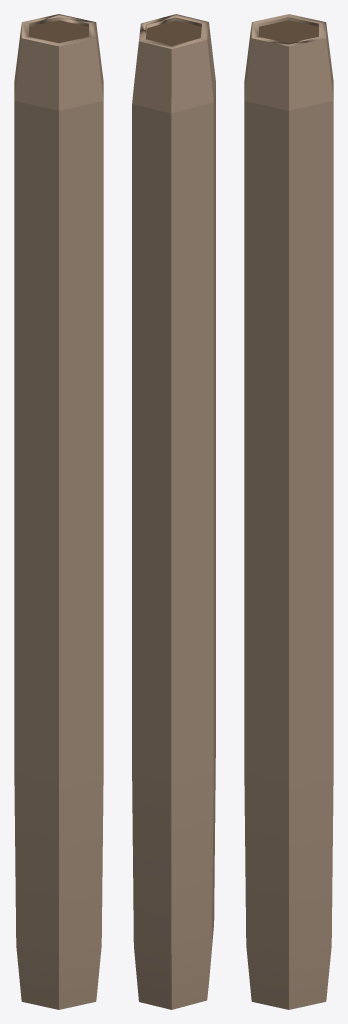
The model's file is Log.fbx.
3 views of the same model, side by side, from view 1: azimuth 90°, elevation 25°; view 2: azimuth 150°, elevation 25°; view 3: azimuth 270°, elevation 25° (orthographic).
Visible parts, largest first — view 1: Plane.001, Plane.002; view 2: Plane.001, Plane.002; view 3: Plane.001, Plane.002.
Boxes of the visible parts, left/top/right/bottom form: Plane.001: left=14, top=14, right=103, bottom=1009; Plane.002: left=29, top=20, right=88, bottom=43; Plane.001: left=132, top=14, right=215, bottom=1009; Plane.002: left=146, top=20, right=201, bottom=45; Plane.001: left=244, top=14, right=333, bottom=1009; Plane.002: left=259, top=20, right=318, bottom=43.
Size of the model in its own units: 161 by 1854 by 156.
